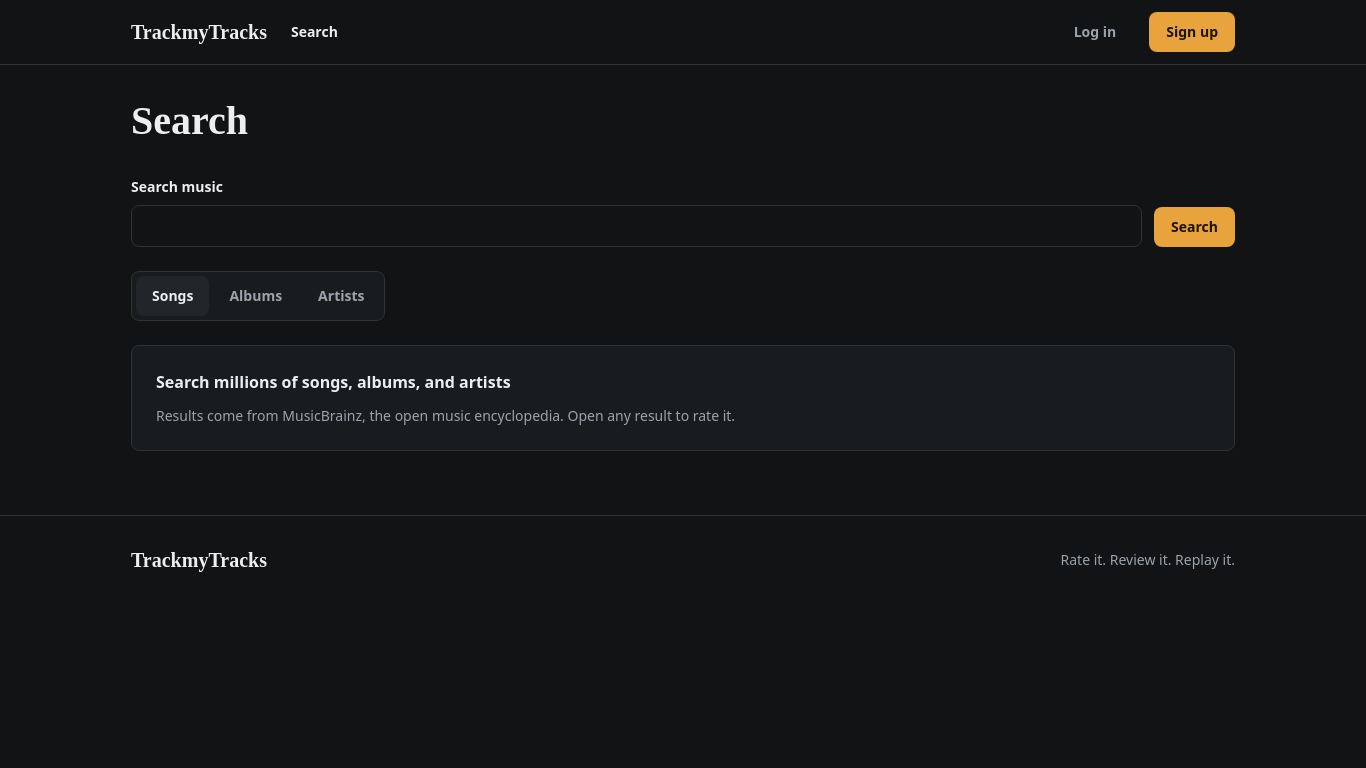
Test: SearchPage › puts the query in the url and lists songs
Type "karma police" into the field labelled "Search music". click: (637, 226)
box: x1=131 y1=205 x2=1142 y2=247
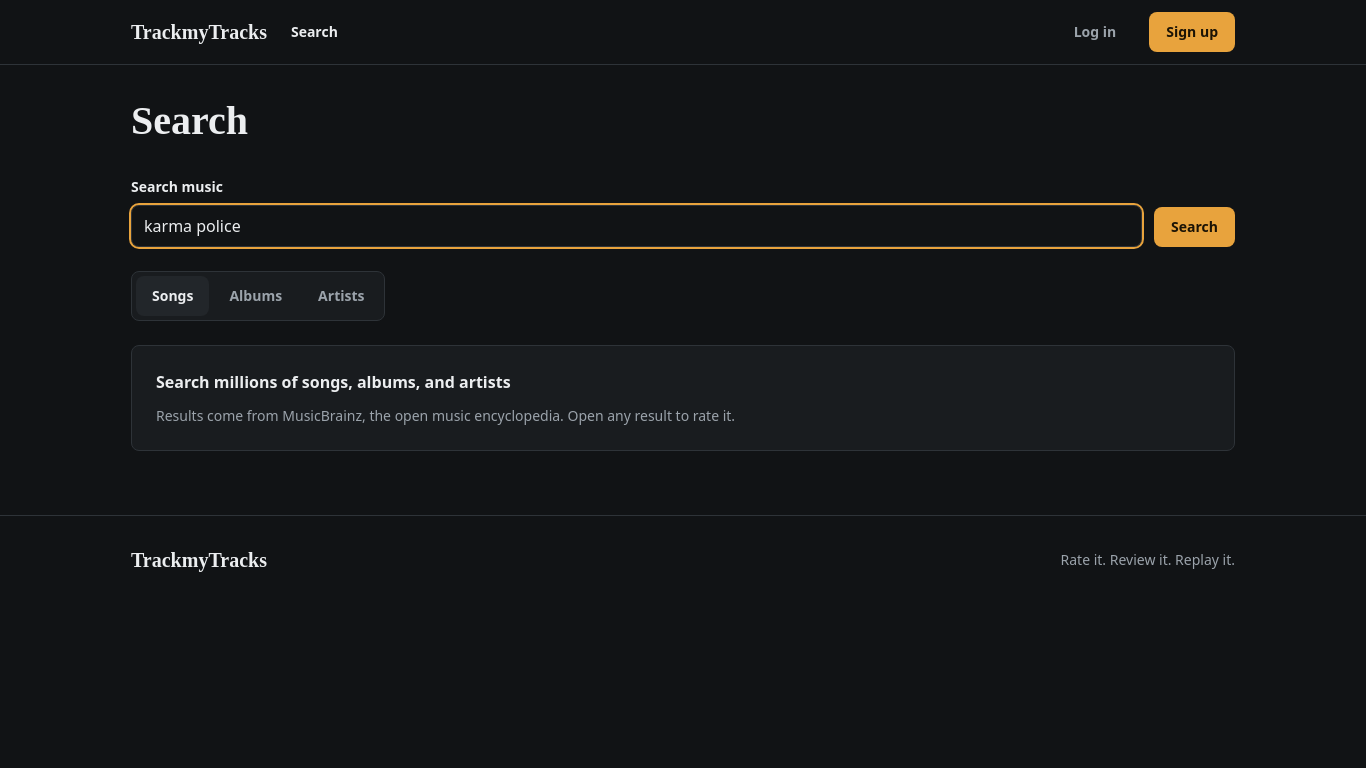
Click the button "Search". click: click(1195, 227)
box: x1=1154 y1=207 x2=1235 y2=247
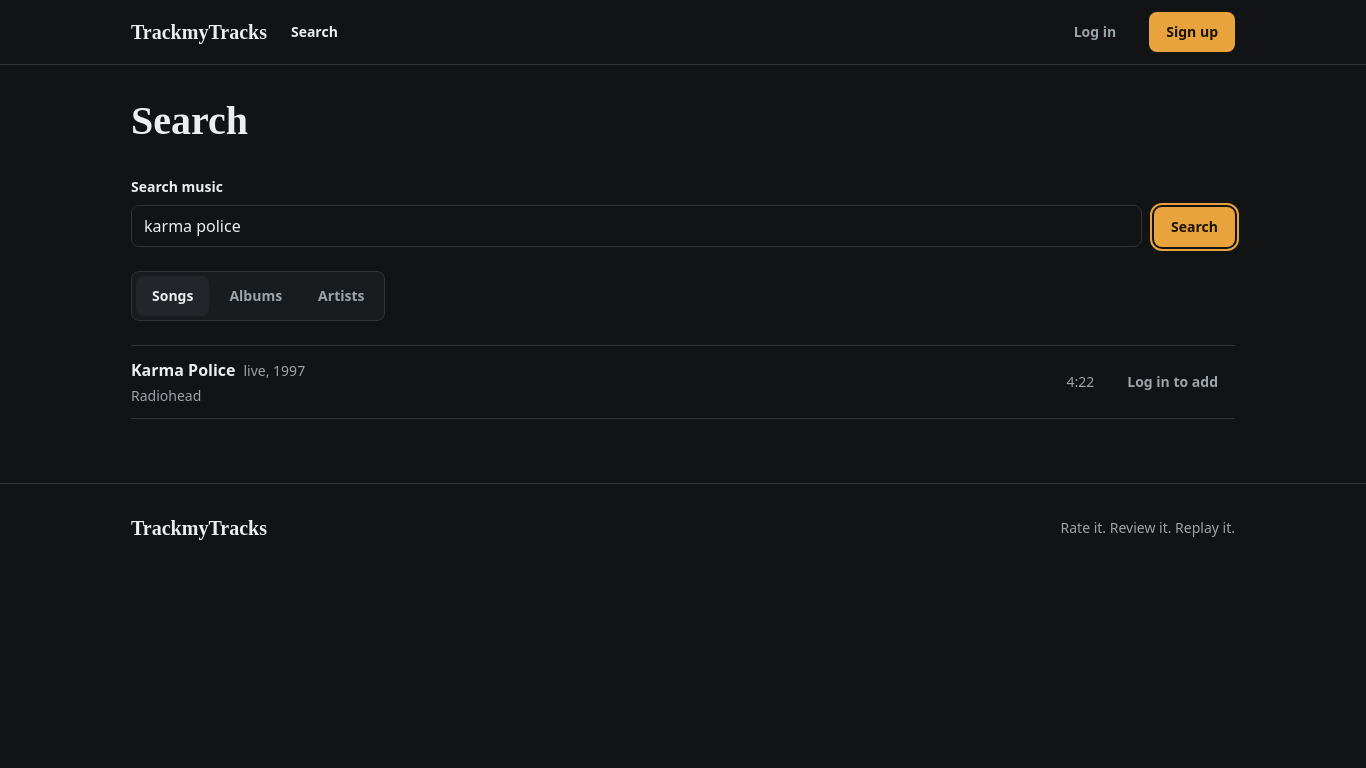
Now the text "live, 1997" is shown, box x1=244 y1=361 x2=305 y2=381
Now the text "4:22" is shown, box x1=1066 y1=372 x2=1094 y2=392
